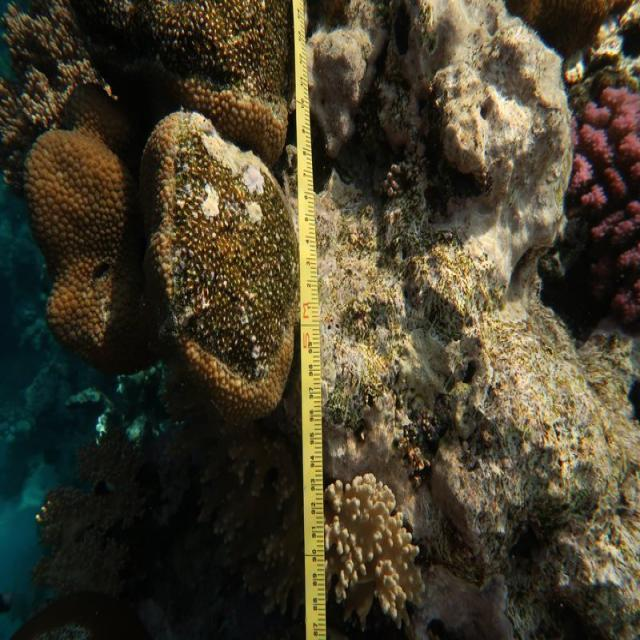Bleached Coral: (316, 467, 432, 629)
Healthy Coral: (146, 124, 314, 414), (22, 97, 150, 359), (102, 7, 297, 133), (565, 80, 640, 329)
